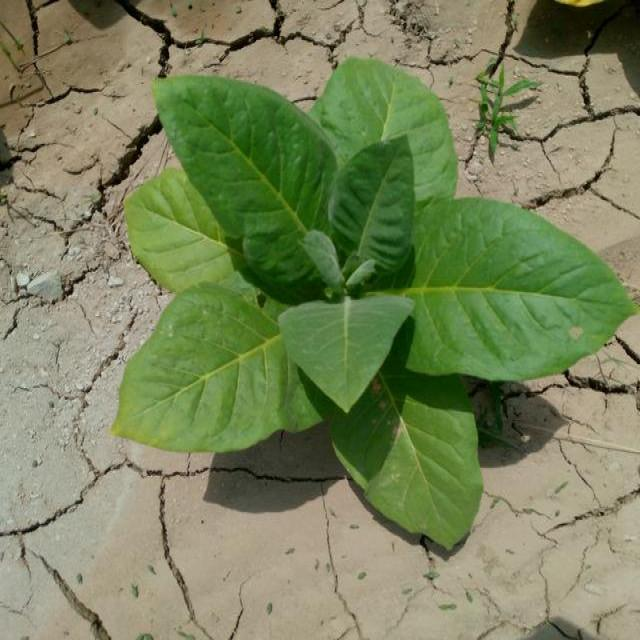crop: (118, 81, 599, 534)
